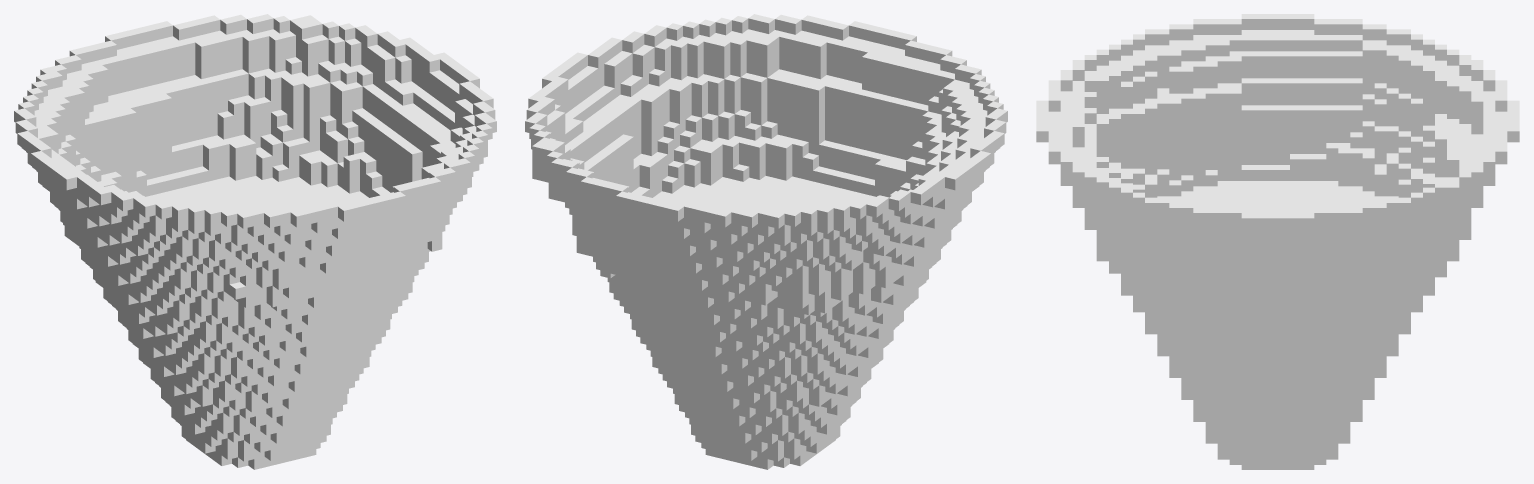
Rendered from Bowl.obj.
The picture shows the model from 3 angles, left to right: view 1: azimuth 30°, elevation 25°; view 2: azimuth 150°, elevation 25°; view 3: azimuth 270°, elevation 25°; orthographic projection.
Bounding box in the file's own units: 4 × 3 × 4.
Materials: 1 (1 with a texture image).
